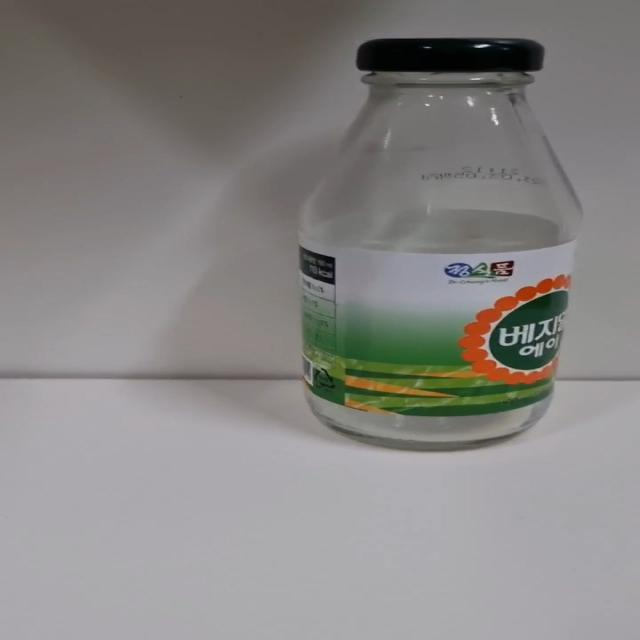Glass: (295, 38, 584, 455)
